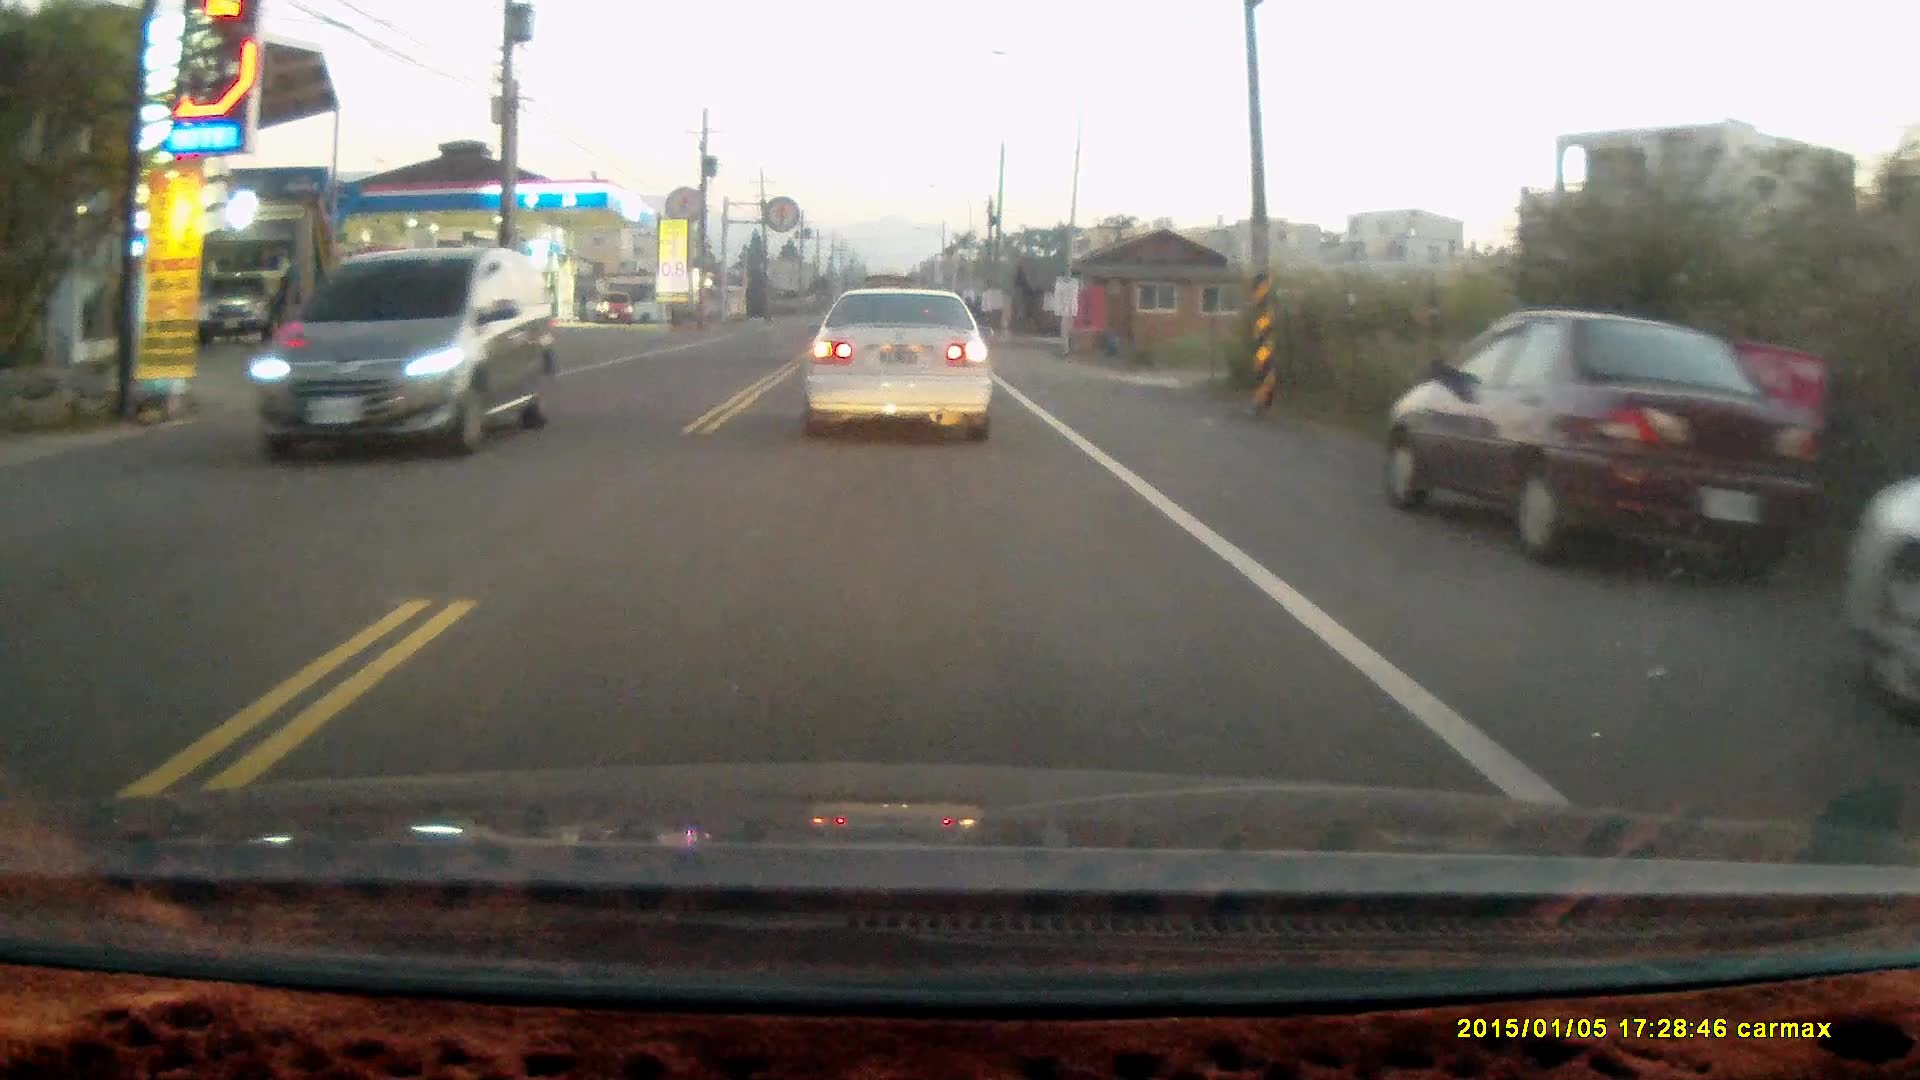vehicle: (1385, 309, 1821, 572), (249, 251, 560, 458), (796, 284, 996, 444)
